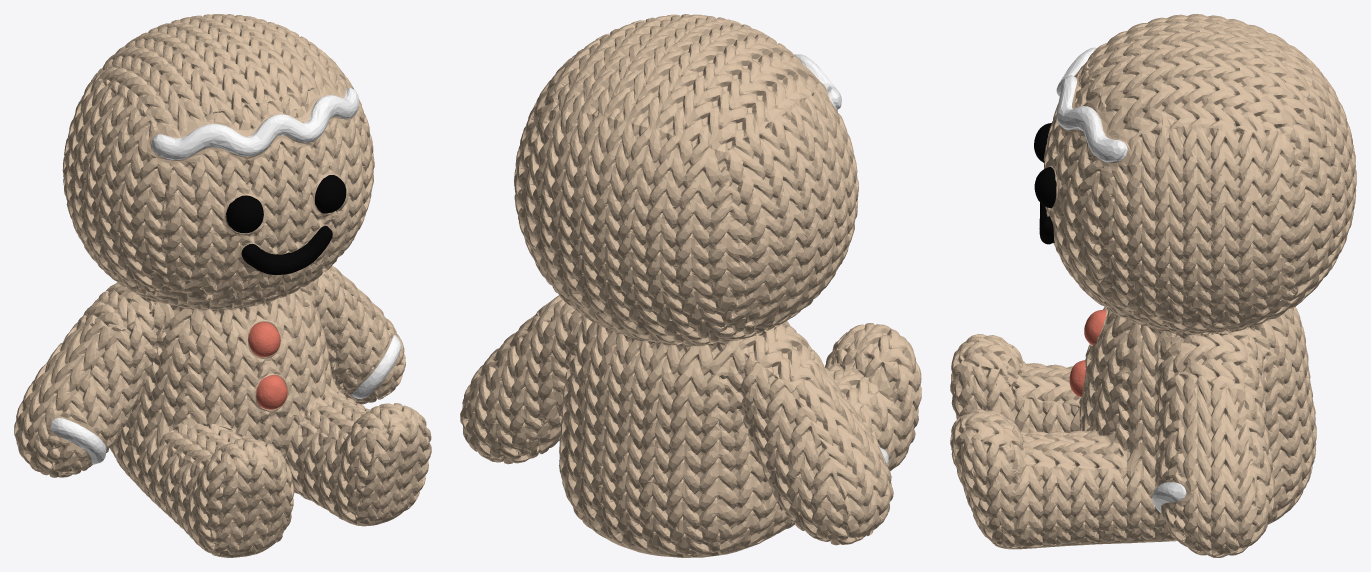
Rendered from galleta.glb.
3 views of the same model, side by side, from view 1: azimuth 30°, elevation 25°; view 2: azimuth 150°, elevation 25°; view 3: azimuth 270°, elevation 25° (orthographic). The views are drawn at different scales.
Visible parts, largest first — view 1: cuerpo, glaseado, detalles, botones; view 2: cuerpo, glaseado; view 3: cuerpo, glaseado, detalles, botones.
Boxes of the visible parts, x1=… form: cuerpo: x1=14, y1=14, x2=431, y2=557; glaseado: x1=50, y1=87, x2=401, y2=464; detalles: x1=226, y1=175, x2=346, y2=274; botones: x1=248, y1=322, x2=287, y2=409; cuerpo: x1=460, y1=14, x2=921, y2=557; glaseado: x1=794, y1=54, x2=888, y2=465; cuerpo: x1=950, y1=14, x2=1356, y2=557; glaseado: x1=1056, y1=47, x2=1186, y2=513; detalles: x1=1034, y1=123, x2=1056, y2=244; botones: x1=1069, y1=310, x2=1106, y2=396.
Bounding box in the file's own units: 0.0562 × 0.063 × 0.0493.
